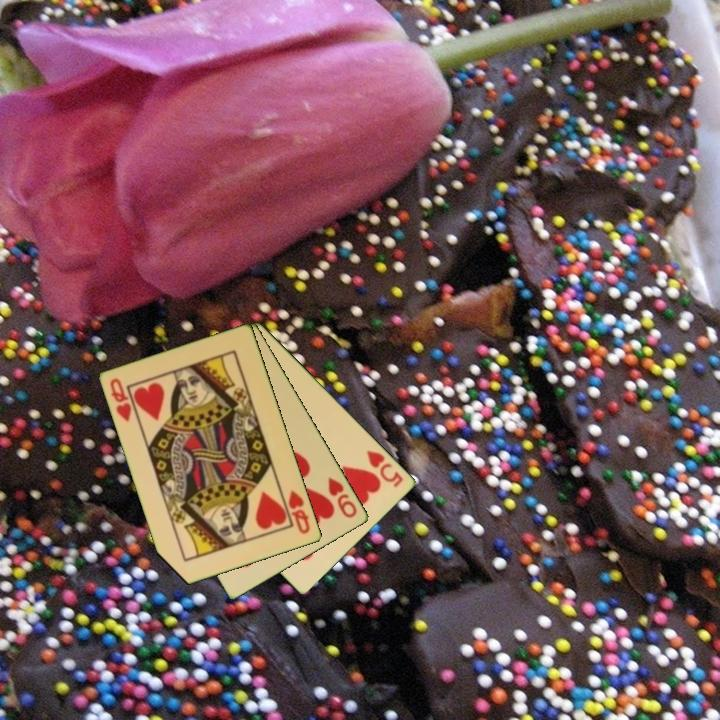5h: (364, 446, 407, 491)
9h: (325, 474, 360, 521)
Qh: (285, 487, 313, 537), (107, 375, 135, 425)
